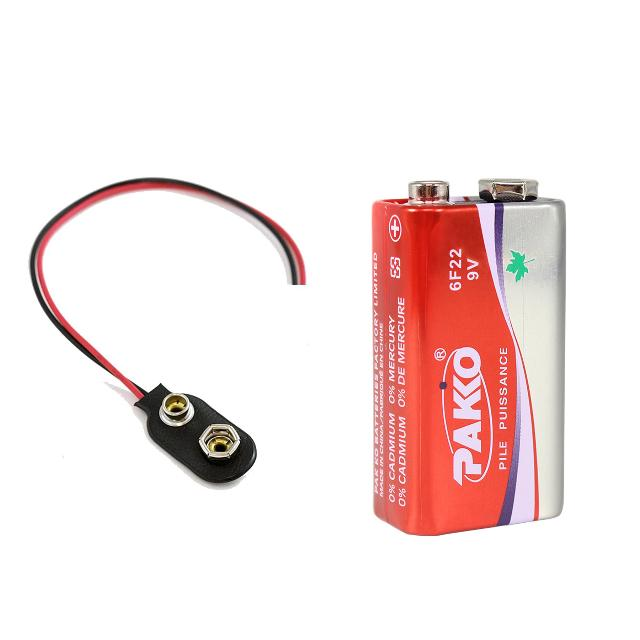Battery: (372, 179, 566, 538)
